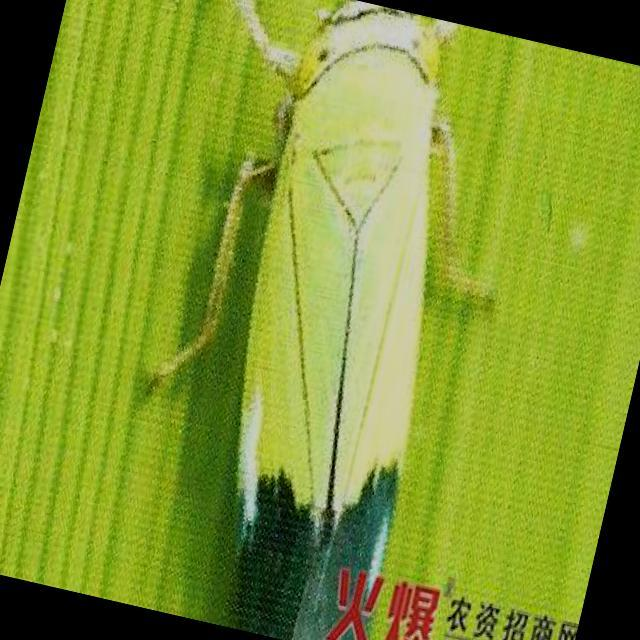green leaf hopper: (160, 0, 487, 639)
